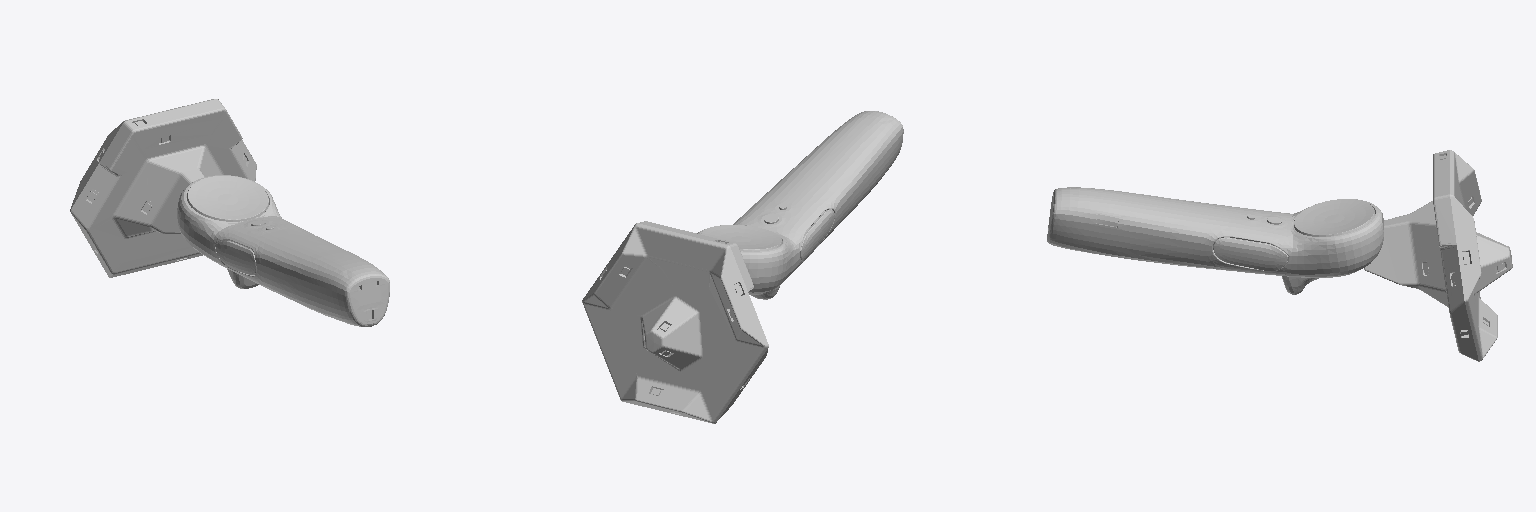
Rendered from vr_controller_05_wireless_b.obj.
3 renders of one model, left to right at view 1: azimuth 30°, elevation 25°; view 2: azimuth 150°, elevation 25°; view 3: azimuth 270°, elevation 25°, orthographic.
Visible parts, largest first — view 1: polySurface10; view 2: polySurface10; view 3: polySurface10.
Part boxes in pixels (x1,y1,x2,y2): polySurface10: (70, 99, 389, 326); polySurface10: (582, 111, 903, 423); polySurface10: (1047, 150, 1512, 361).
Bounding box in the file's own units: 0.1084 × 0.0932 × 0.2341.